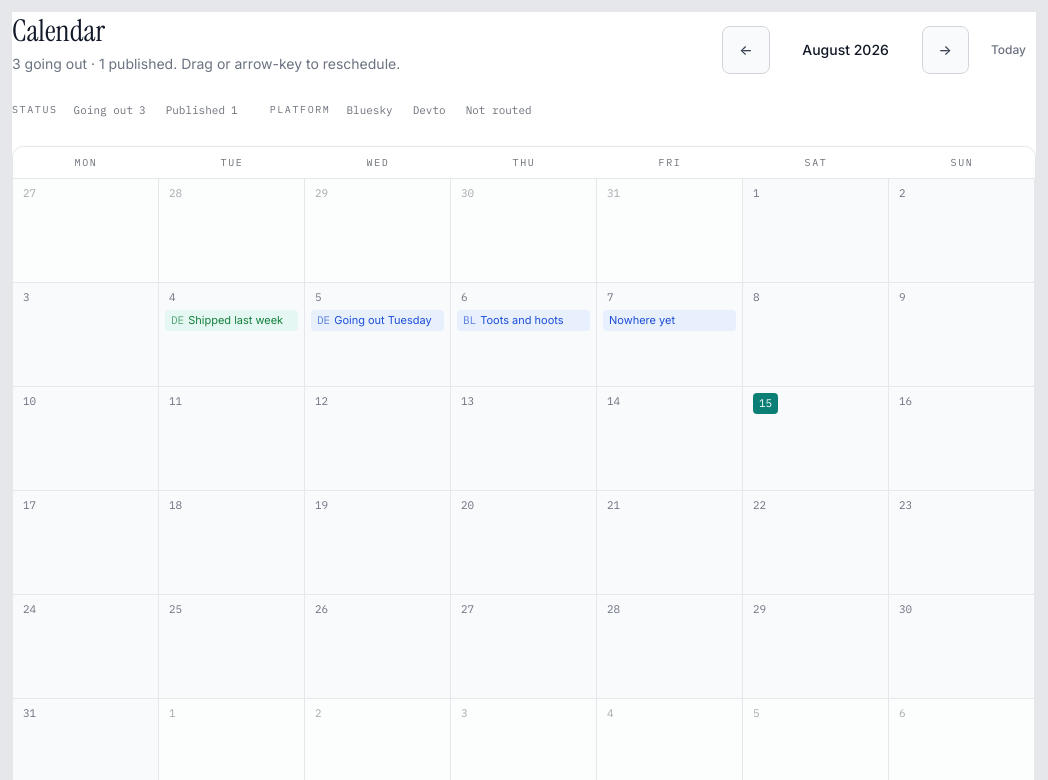
Scenario: filtering › narrows to one status bucket
Expected: the link "Shipped last week" is shown, [165,310,298,331]
Click the button "Published1" at (202, 110), box [158,98,246,122]
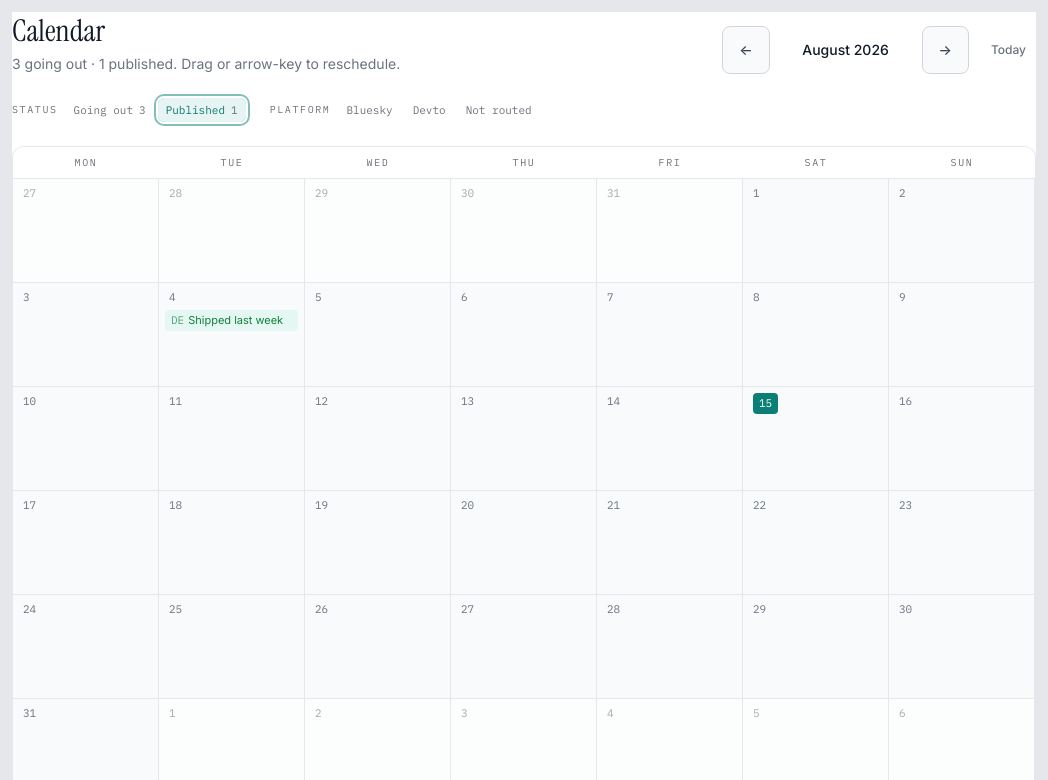
Expected: the link "Shipped last week" is shown, [165,310,298,331]
Expected: the link "Going out Tuesday" is gone
